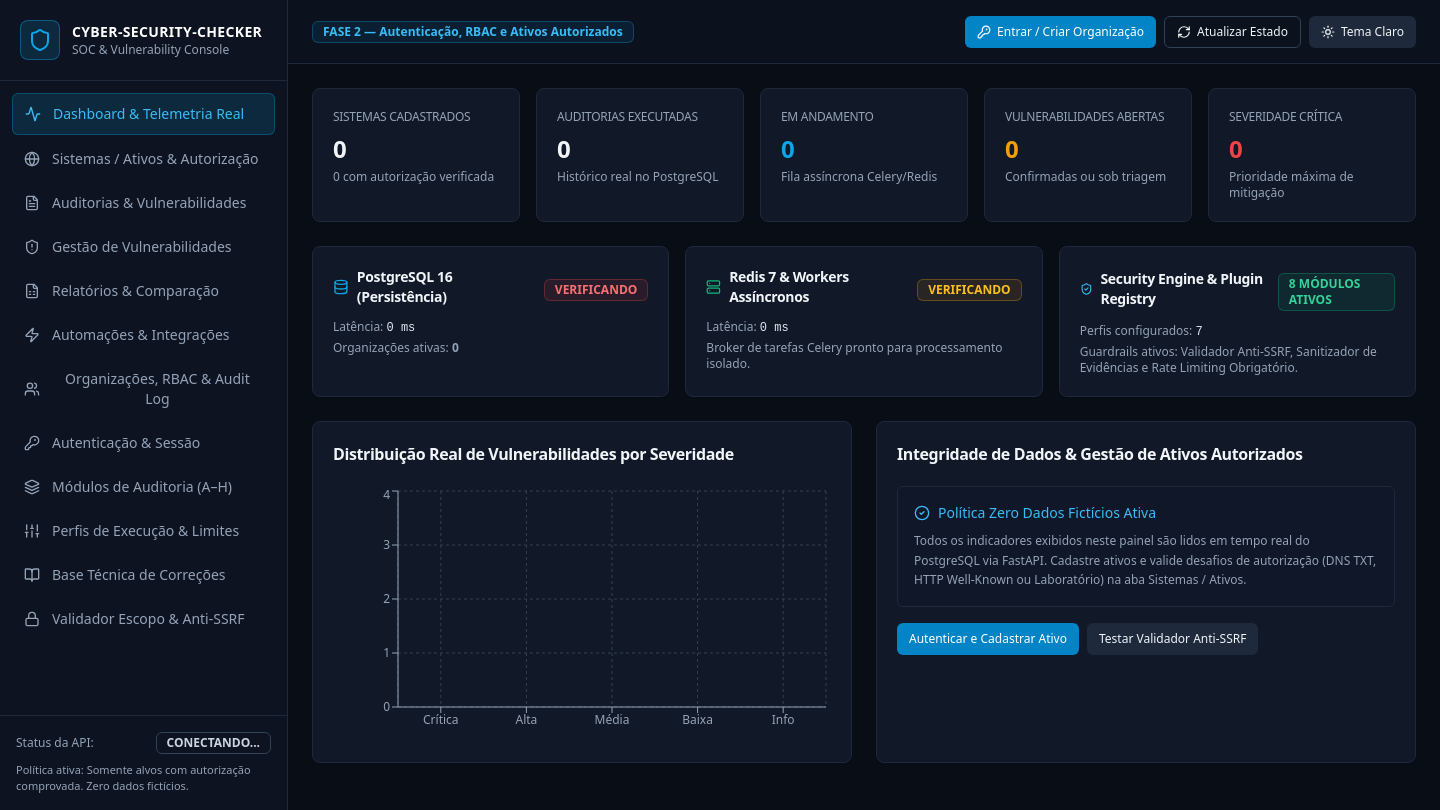
SOC Console - Cyber-Security-Checker (TM-009 & TM-013) › exibe abas de Autenticação, Sistemas/Ativos e RBAC/Audit Log da Fase 2
This screenshot has width=1440, height=810.
Click the button "Autenticação & Sessão" at x=144, y=443, box top-left (12, 423), bottom-right (275, 463)
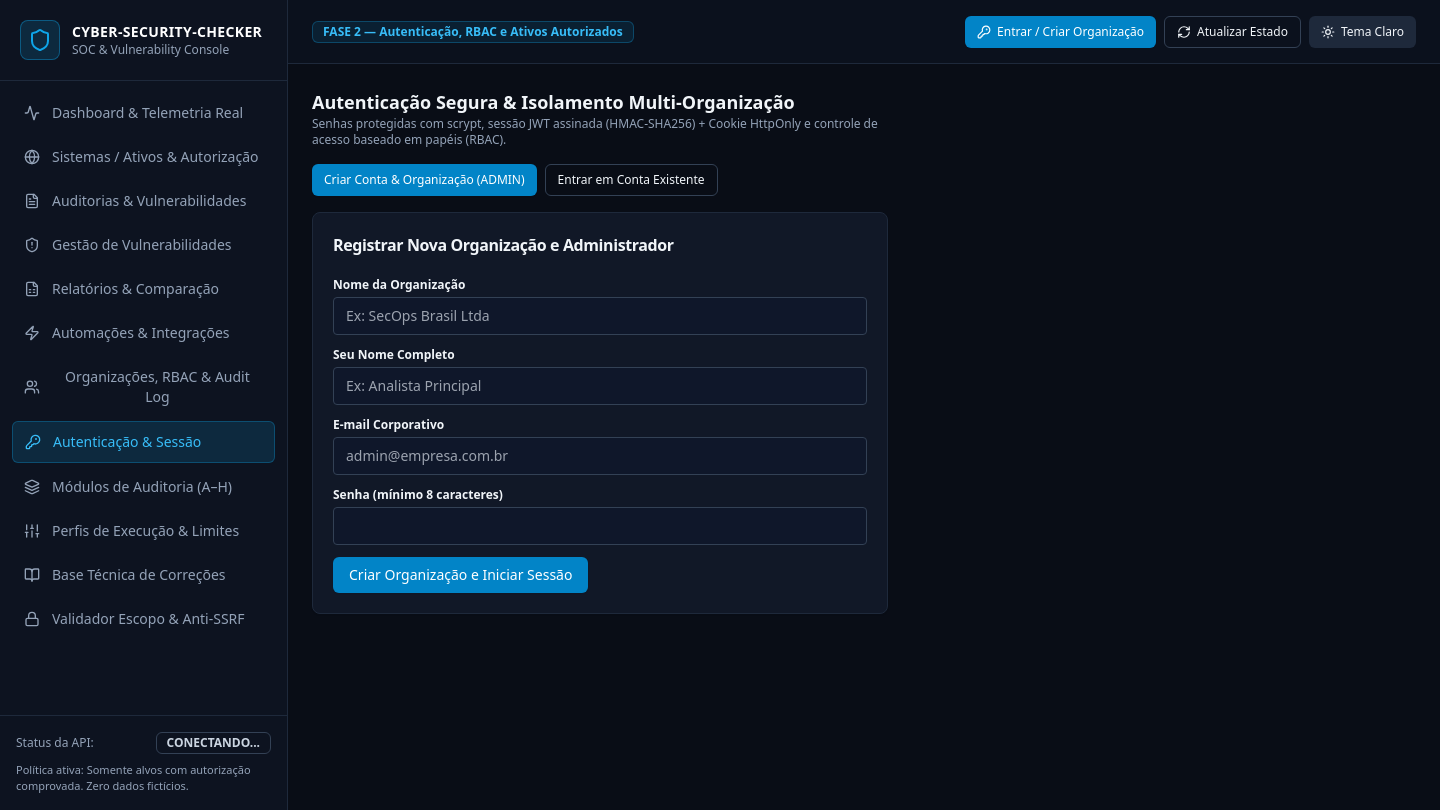
expect the heading "Registrar Nova Organização e Administrador" is shown: met, box top-left (333, 234), bottom-right (674, 256)
Click the button "Sistemas / Ativos & Autorização" at x=144, y=157, box top-left (12, 137), bottom-right (275, 177)
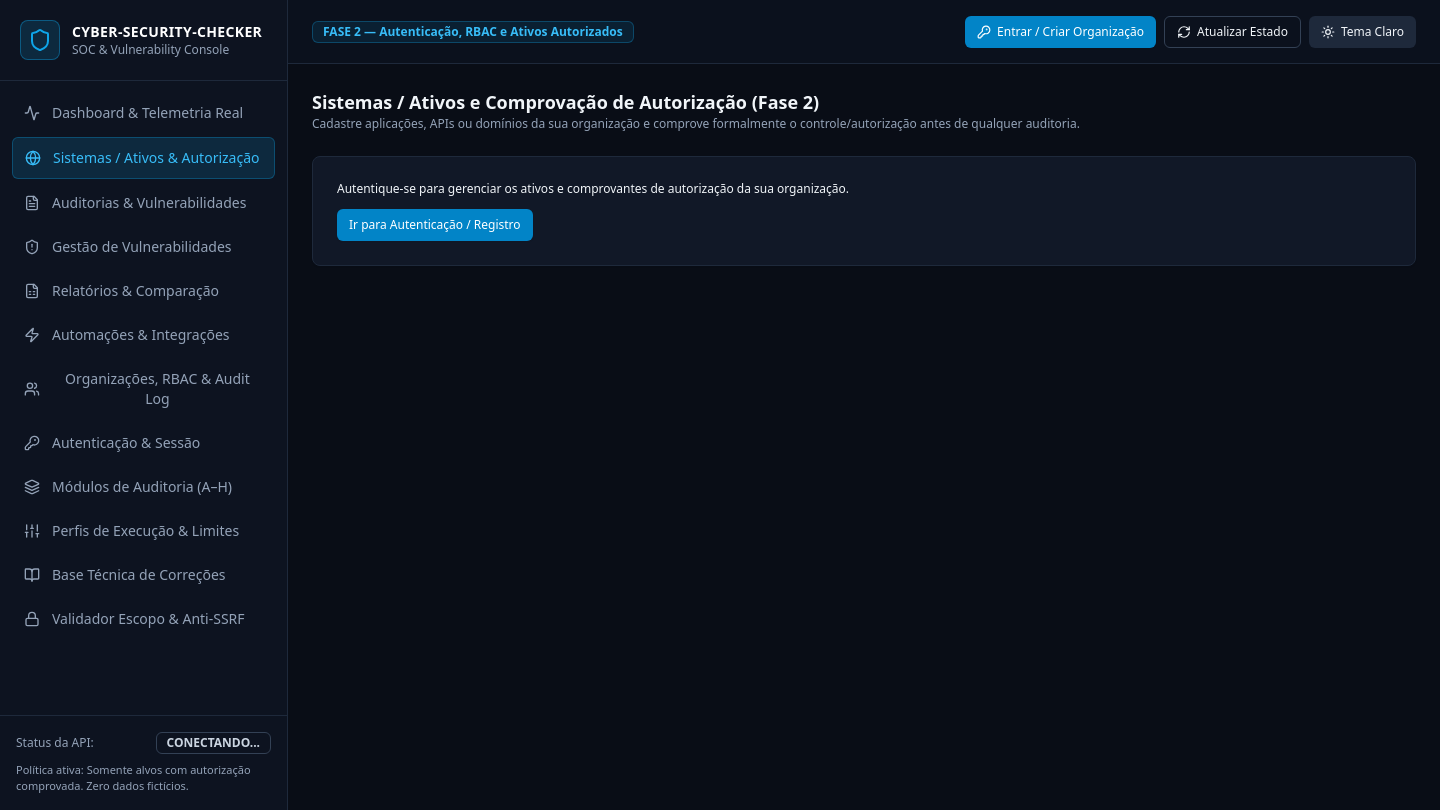
expect the heading "Sistemas / Ativos e Comprovação de Autorização (Fase 2)" is shown: met, box top-left (312, 90), bottom-right (819, 114)
Click the button "Auditorias & Vulnerabilidades" at x=144, y=203, box top-left (12, 183), bottom-right (275, 223)
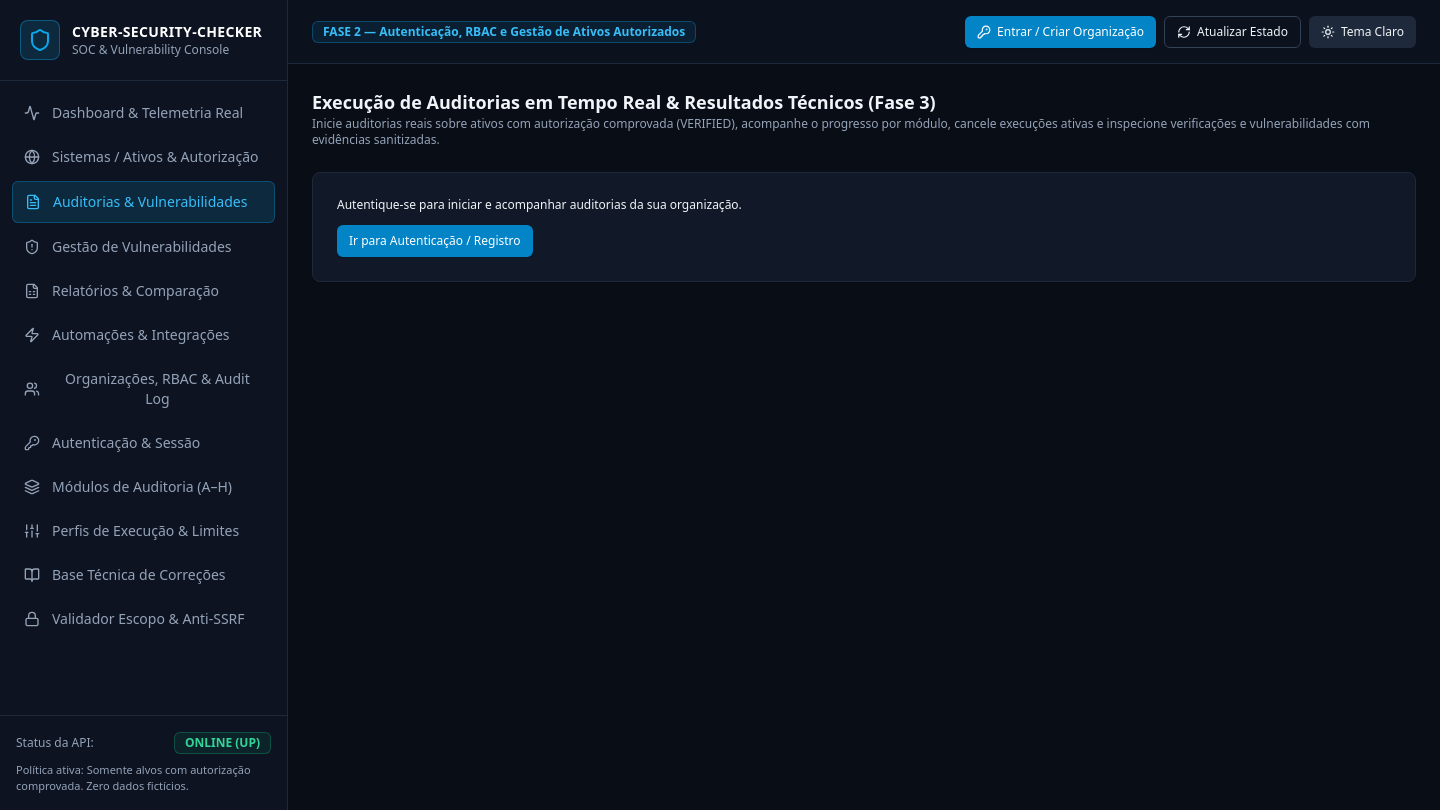
expect the heading "Execução de Auditorias em Tempo Real & Resultados Técnicos (Fase 3)" is shown: met, box top-left (312, 90), bottom-right (936, 114)
